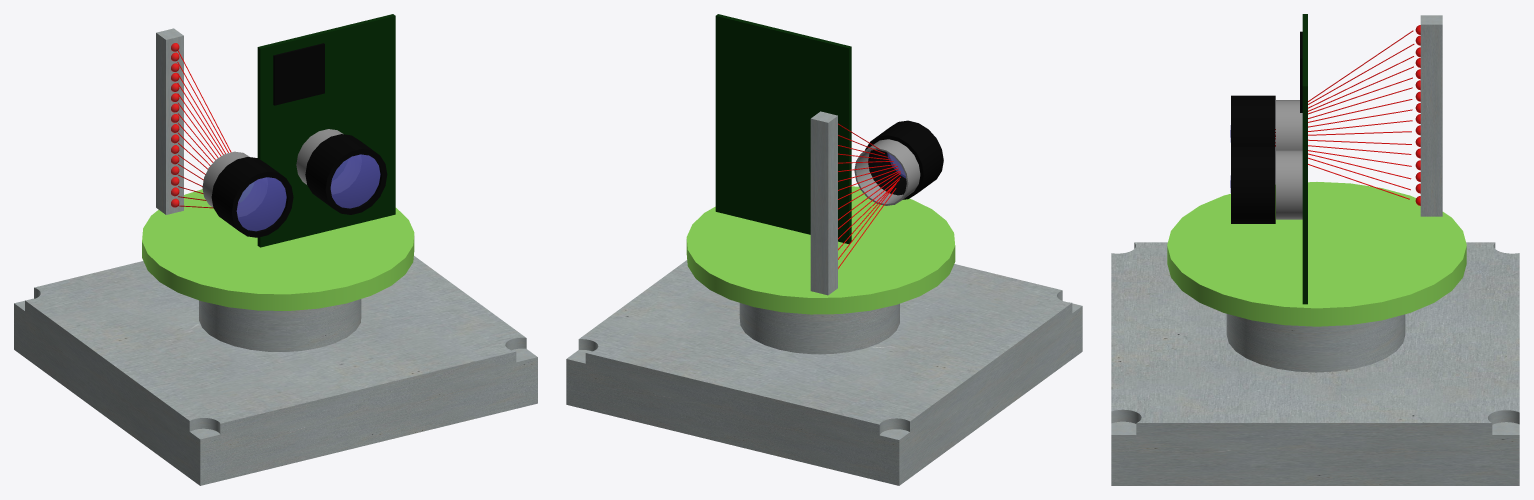
The picture shows the model from 3 angles, left to right: view 1: azimuth 30°, elevation 25°; view 2: azimuth 150°, elevation 25°; view 3: azimuth 270°, elevation 25°; orthographic projection. The views are drawn at different scales.
Visible parts, largest first — view 1: dizuo, dituo, dianluban, dianji, Box001, Cylinder003, Cylinder023, Box002, Sphere001, Sphere002, Cylinder005, Cylinder022; view 2: dizuo, dianluban, dituo, dianji, Box001, Cylinder003, Cylinder005; view 3: dizuo, dituo, dianji, Box001, Cylinder023, Cylinder003, Cylinder022, dianluban, Cylinder005.
Part boxes in pixels (x1,y1,x2,y2): dizuo: (14,256,537,485); dituo: (142,189,414,310); dianluban: (257,14,395,247); dianji: (199,299,361,351); Box001: (156,28,183,214); Cylinder003: (211,157,293,237); Cylinder023: (305,134,387,214); Box002: (273,43,324,105); Sphere001: (236,177,286,231); Sphere002: (330,154,380,208); Cylinder005: (202,151,249,207); Cylinder022: (296,129,343,184); dizuo: (566,260,1082,485); dianluban: (715,14,851,243); dituo: (686,186,955,314); dianji: (739,303,899,354); Box001: (810,111,837,295); Cylinder003: (865,120,943,199); Cylinder005: (854,139,920,205); dizuo: (1111,242,1519,485); dituo: (1167,182,1466,326); dianji: (1226,314,1405,372); Box001: (1420,15,1442,216); Cylinder023: (1231,146,1275,223); Cylinder003: (1231,95,1275,145); Cylinder022: (1276,150,1302,219); dianluban: (1302,14,1307,304); Cylinder005: (1276,100,1302,150).
Size of the model in its own units: 212 by 202 by 202.
Materials: 8 (1 with a texture image).
